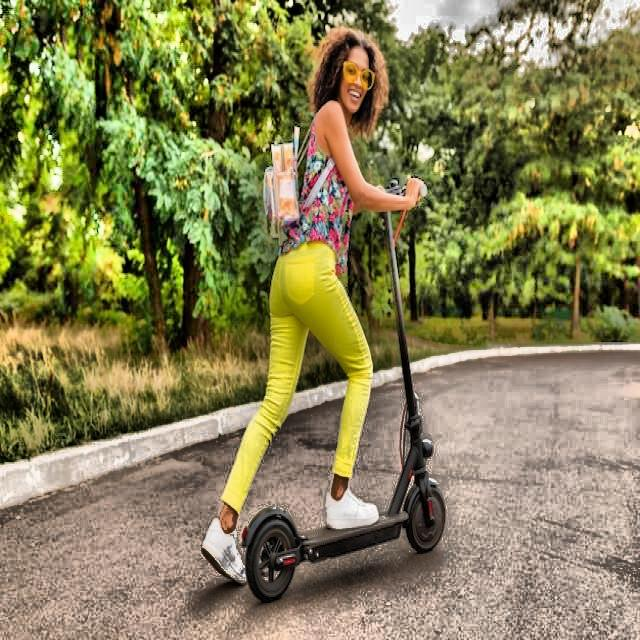bare_head: (310, 16, 416, 124)
human: (223, 14, 385, 529)
kickboard: (200, 479, 517, 604)
